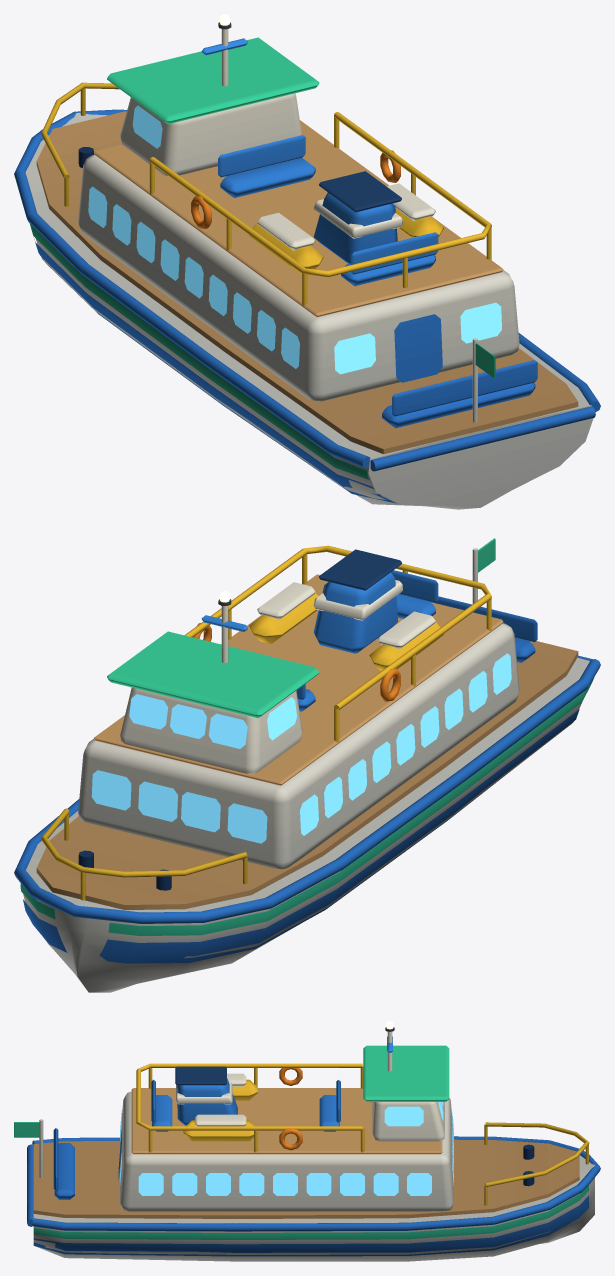
File: ferry.glb
3 renders of one model, top to bottom at view 1: azimuth 30°, elevation 25°; view 2: azimuth 150°, elevation 25°; view 3: azimuth 270°, elevation 25°, orthographic. The views are drawn at different scales.
Parts seen in each view (by area): view 1: ferry Warm white, ferry Pale wood, ferry Kestrel sky, ferry Relief mint, ferry Glass, ferry Sunflower, ferry Kestrel navy, ferry Signal orange; view 2: ferry Warm white, ferry Pale wood, ferry Kestrel sky, ferry Relief mint, ferry Glass, ferry Sunflower, ferry Kestrel navy, ferry Signal orange; view 3: ferry Warm white, ferry Pale wood, ferry Kestrel sky, ferry Relief mint, ferry Glass, ferry Sunflower, ferry Kestrel navy, ferry Signal orange.
Part boxes in pixels (box(x1,y1,x2,y2)): ferry Warm white: box(25, 29, 593, 509); ferry Pale wood: box(36, 111, 578, 454); ferry Kestrel sky: box(14, 38, 600, 503); ferry Relief mint: box(30, 37, 495, 479); ferry Glass: box(88, 105, 501, 374); ferry Sunflower: box(41, 82, 491, 305); ferry Kestrel navy: box(78, 147, 401, 212); ferry Signal orange: box(191, 150, 400, 228); ferry Warm white: box(23, 548, 589, 992); ferry Pale wood: box(36, 574, 578, 909); ferry Kestrel sky: box(14, 570, 600, 963); ferry Relief mint: box(20, 538, 594, 935); ferry Glass: box(91, 653, 511, 843); ferry Sunflower: box(41, 545, 491, 900); ferry Kestrel navy: box(78, 549, 401, 890); ferry Signal orange: box(193, 623, 400, 701); ferry Warm white: box(33, 1031, 594, 1261); ferry Pale wood: box(33, 1088, 579, 1218); ferry Kestrel sky: box(27, 1036, 600, 1256); ferry Relief mint: box(14, 1045, 588, 1239); ferry Glass: box(120, 1102, 453, 1195); ferry Sunflower: box(136, 1063, 589, 1205); ferry Kestrel navy: box(175, 1066, 534, 1186); ferry Signal orange: box(279, 1068, 302, 1150).
Bounding box in the file's own units: 2.74 × 3.29 × 7.53.
Materials: 10 (8 with a texture image).
